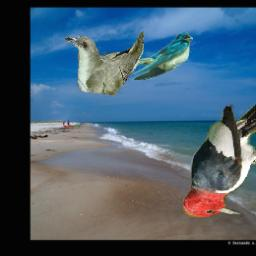Cuckoo: (65, 30, 145, 98)
Swallow: (118, 32, 193, 81)
Woodpecker: (184, 102, 256, 218)
